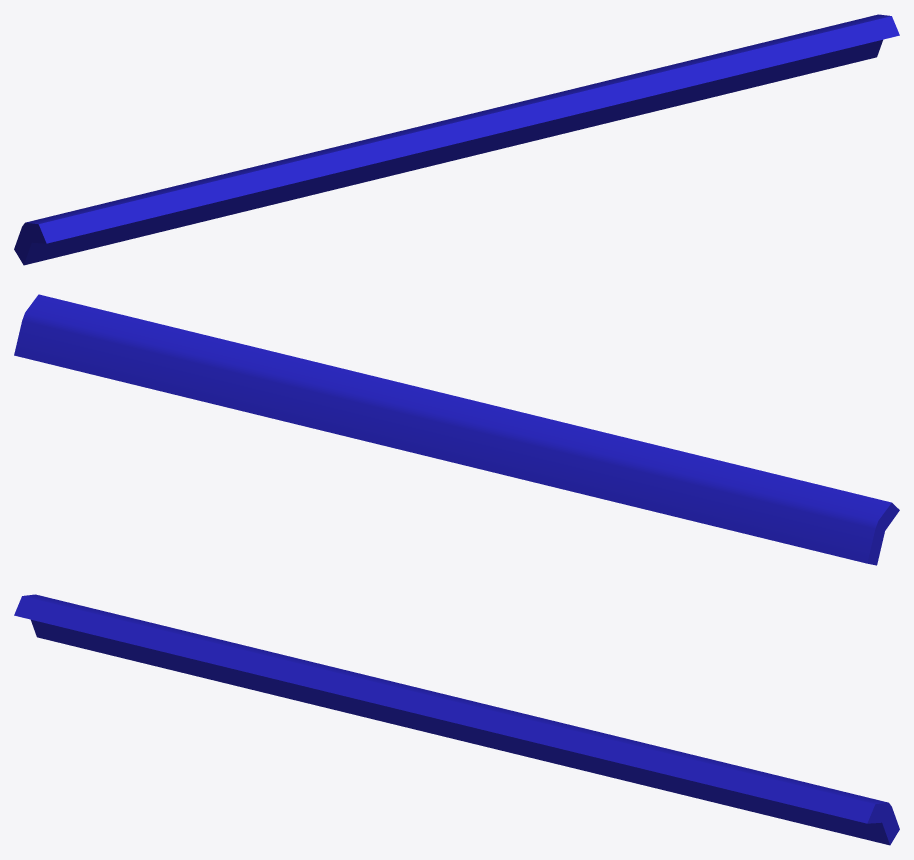
File: roof_top_adornment_A.fbx
3 views of the same model, one above another, from view 1: azimuth 30°, elevation 25°; view 2: azimuth 150°, elevation 25°; view 3: azimuth 330°, elevation 25° (orthographic).
Parts seen in each view (by area): view 1: roof_top_adornment_A; view 2: roof_top_adornment_A; view 3: roof_top_adornment_A.
Part boxes in pixels (x1,y1,x2,y2): roof_top_adornment_A: [14, 14, 899, 265]; roof_top_adornment_A: [14, 294, 899, 565]; roof_top_adornment_A: [14, 594, 899, 845].
Bounding box in the file's own units: 400 × 23.37 × 26.55.
